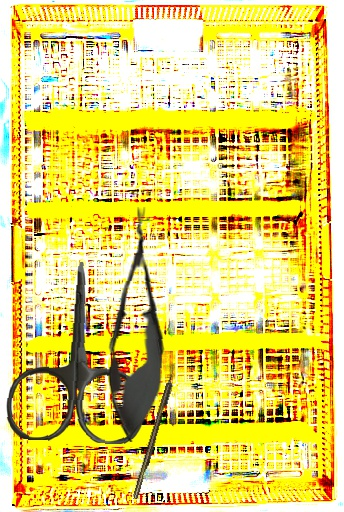Hook Surgical: (131, 362, 180, 500)
Iris Scissors: (4, 258, 153, 446)
Micro Scissor: (102, 206, 171, 443)
